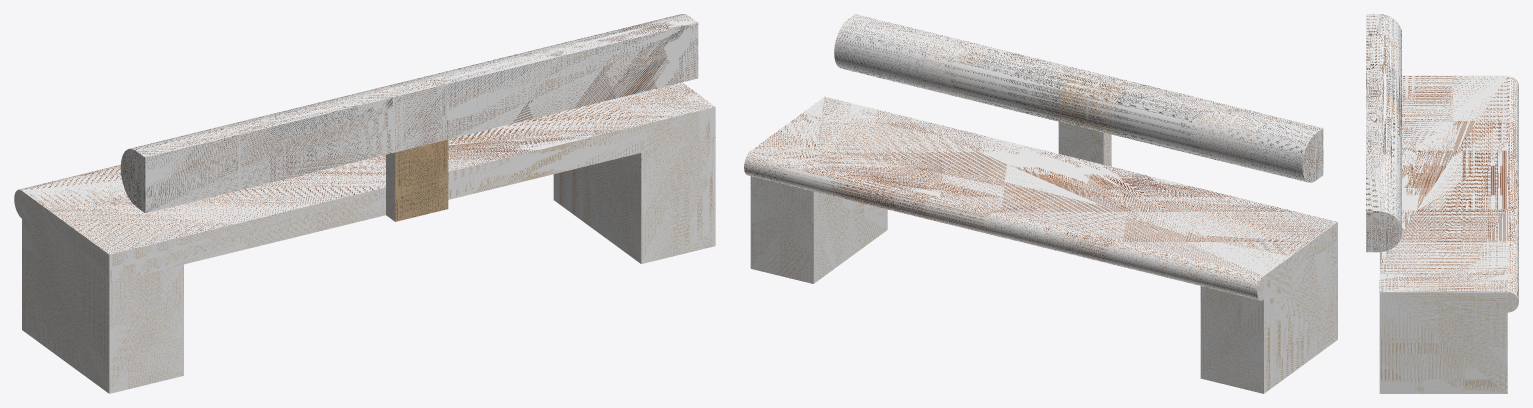
The picture shows the model from 3 angles, left to right: view 1: azimuth 30°, elevation 25°; view 2: azimuth 150°, elevation 25°; view 3: azimuth 270°, elevation 25°; orthographic projection. The views are drawn at different scales.
Visible parts, largest first — view 1: mesh23_mesh23-geometry; view 2: mesh23_mesh23-geometry; view 3: mesh23_mesh23-geometry.
Boxes of the visible parts, x1,y1,x2,y2 form: mesh23_mesh23-geometry: [14, 14, 715, 393]; mesh23_mesh23-geometry: [744, 14, 1337, 393]; mesh23_mesh23-geometry: [1366, 14, 1518, 393].
Bounding box in the file's own units: 0.9026 × 0.3361 × 0.2691.
